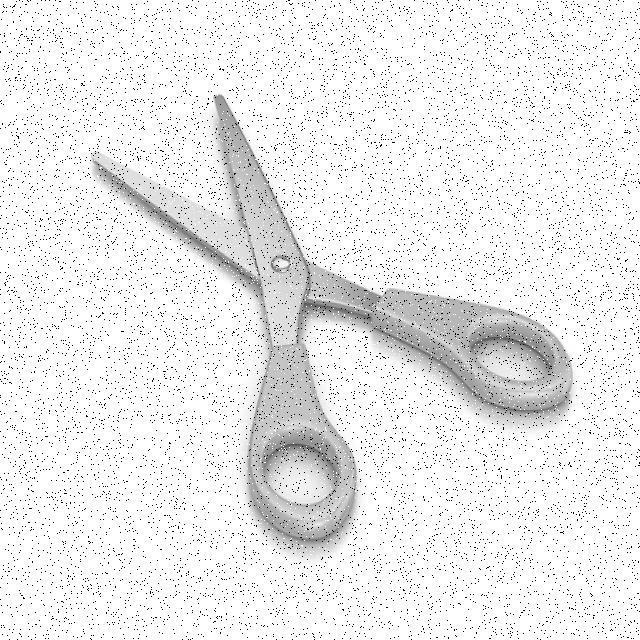scissors: (82, 86, 580, 550)
